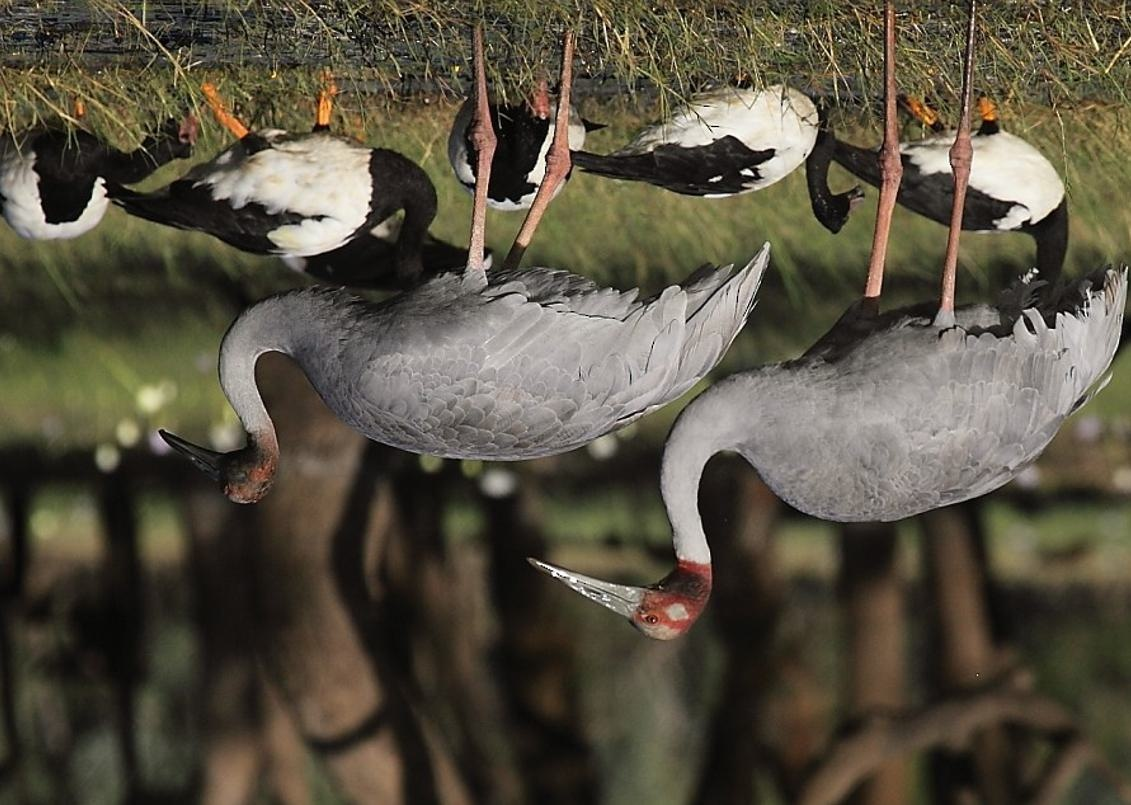crane: (518, 17, 1131, 653), (159, 2, 785, 512)
